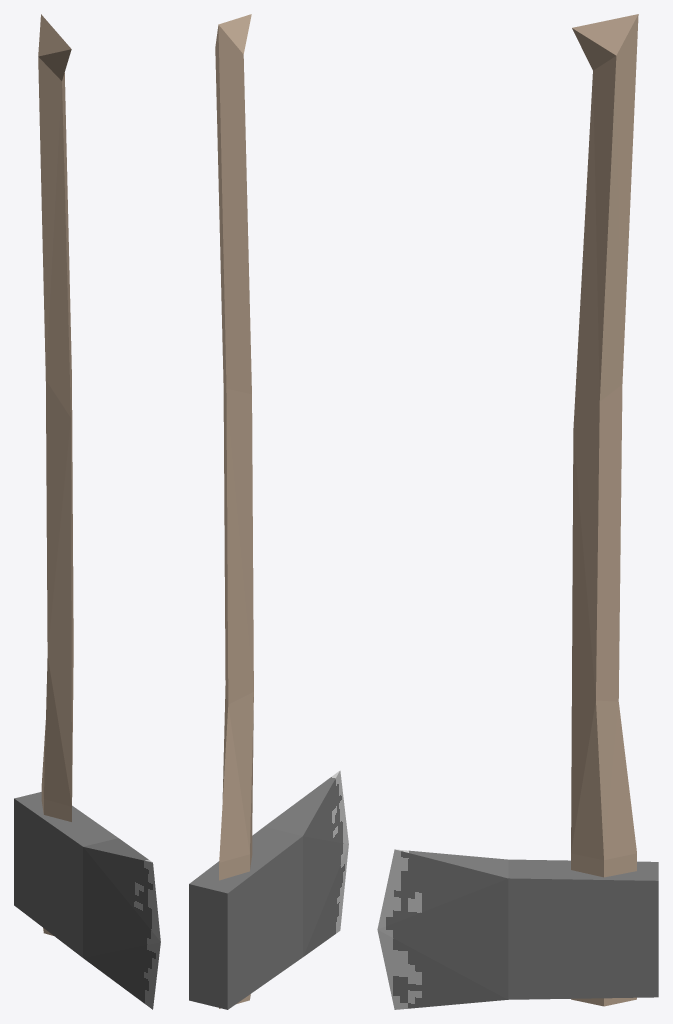
File: axe.gltf
3 views of the same model, side by side, from view 1: azimuth 30°, elevation 25°; view 2: azimuth 150°, elevation 25°; view 3: azimuth 270°, elevation 25° (orthographic). The views are drawn at different scales.
Visible parts, largest first — view 1: Axe; view 2: Axe; view 3: Axe.
Boxes of the visible parts, left/top/right/bottom form: Axe: left=14, top=14, right=160, bottom=1009; Axe: left=189, top=14, right=348, bottom=1009; Axe: left=377, top=14, right=658, bottom=1009.
Size of the model in its own units: 0.0893 by 2.19 by 0.561.
Materials: 1 (1 with a texture image).
